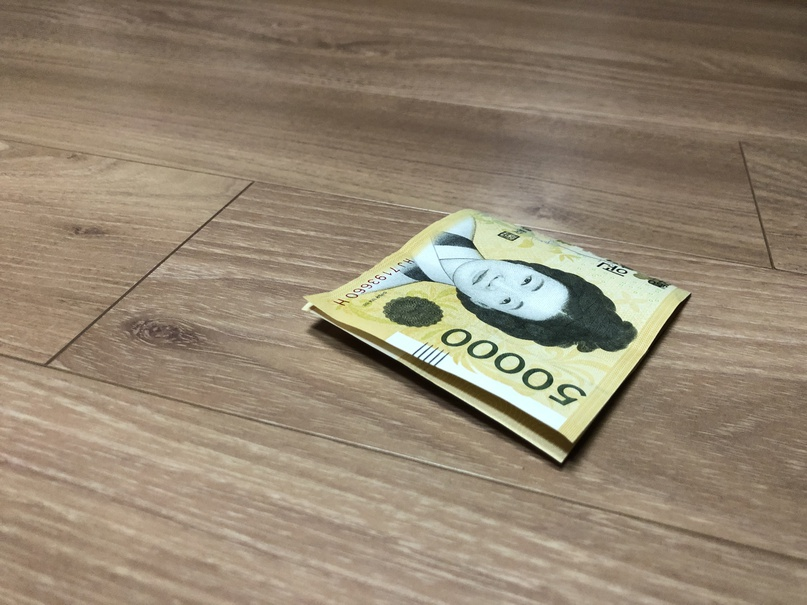50000won: (302, 206, 694, 466)
